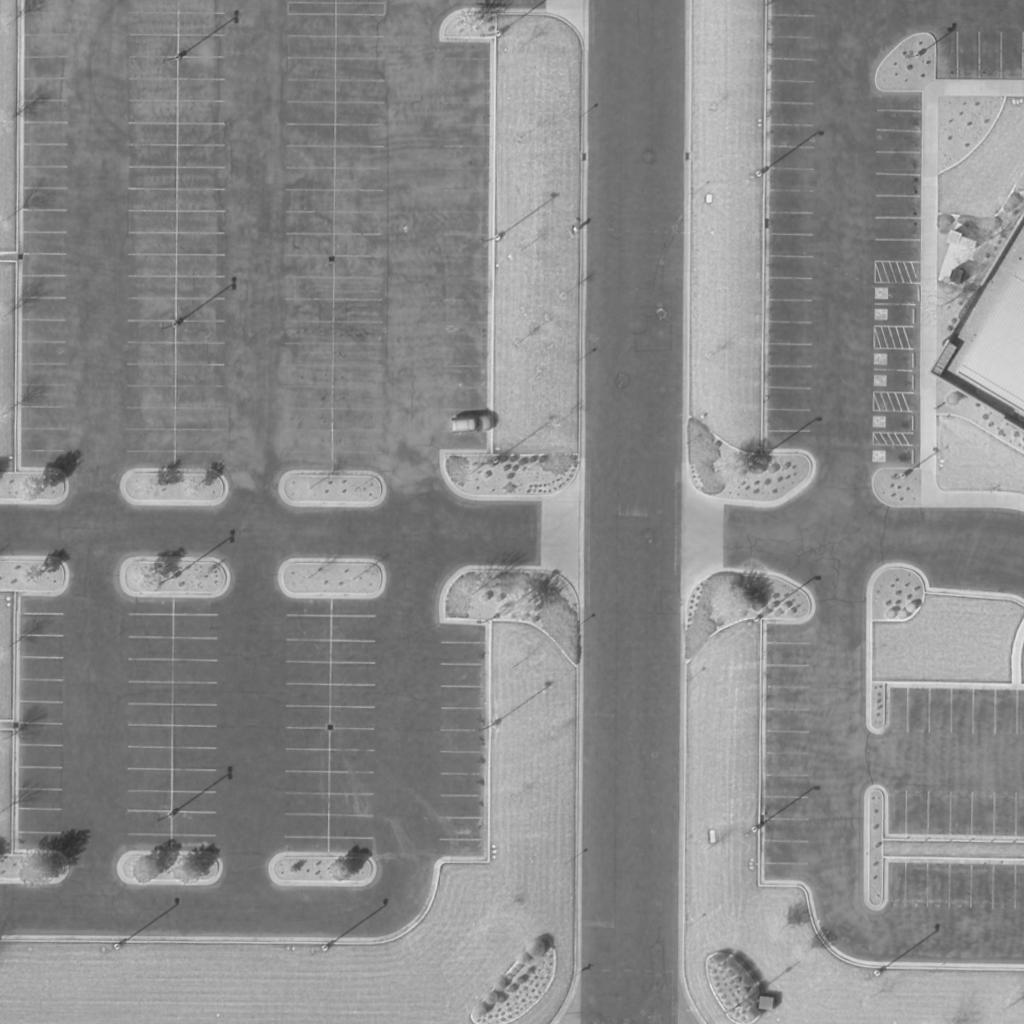vehicle: (449, 415, 493, 433)
